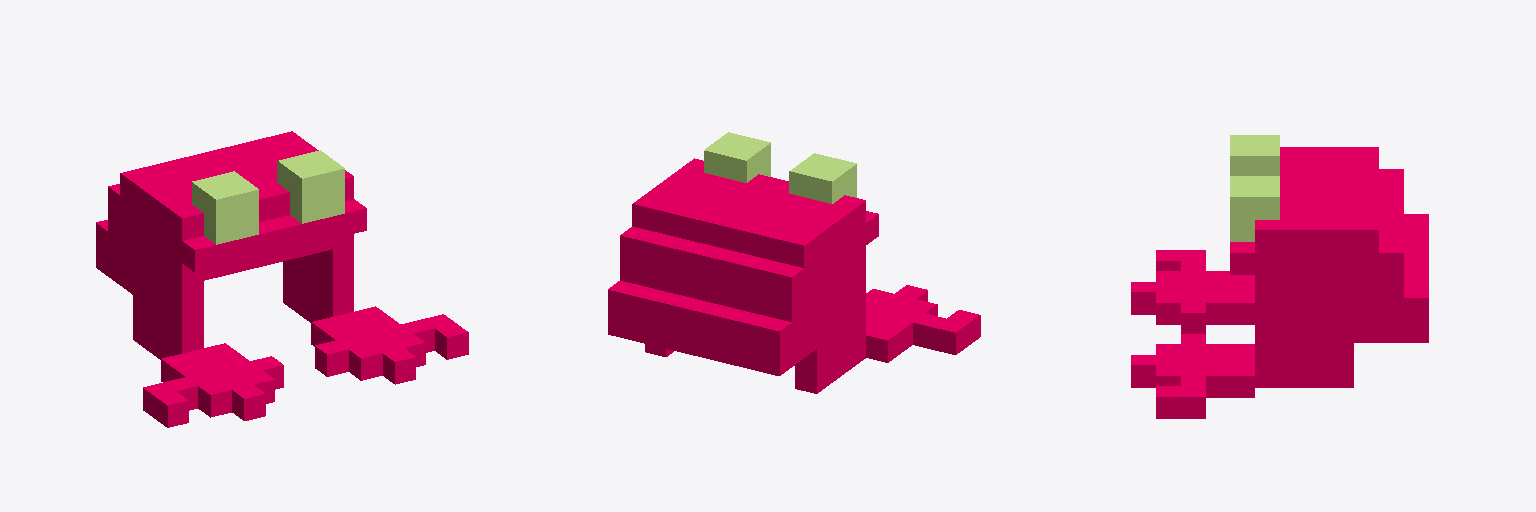
3 views of the same model, side by side, from view 1: azimuth 30°, elevation 25°; view 2: azimuth 150°, elevation 25°; view 3: azimuth 270°, elevation 25° (orthographic).
Visible parts, largest first — view 1: object 1; view 2: object 1; view 3: object 1.
Boxes of the visible parts, x1=… form: object 1: x1=96, y1=131, x2=468, y2=427; object 1: x1=608, y1=132, x2=980, y2=393; object 1: x1=1131, y1=135, x2=1428, y2=418.
Size of the model in its own units: 1.4 by 0.8 by 1.2.
Materials: 1 (1 with a texture image).